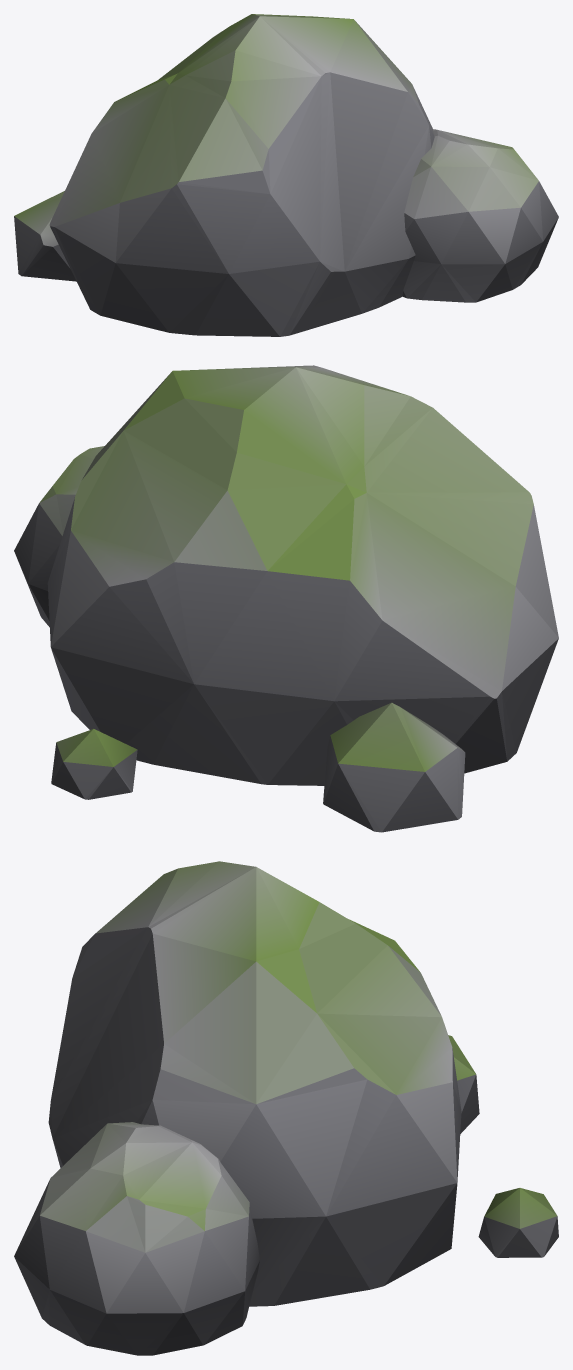
The model's file is rock-whole.glb.
3 views of the same model, one above another, from view 1: azimuth 30°, elevation 25°; view 2: azimuth 150°, elevation 25°; view 3: azimuth 270°, elevation 25° (orthographic). The views are drawn at different scales.
Parts seen in each view (by area): view 1: 0_rock; view 2: 0_rock; view 3: 0_rock.
Boxes of the visible parts, box(x1,y1,x2,y2) form: 0_rock: box(14, 14, 558, 336); 0_rock: box(14, 365, 558, 832); 0_rock: box(14, 861, 558, 1355).
Bounding box in the file's own units: 2.35 × 1.35 × 1.96.
